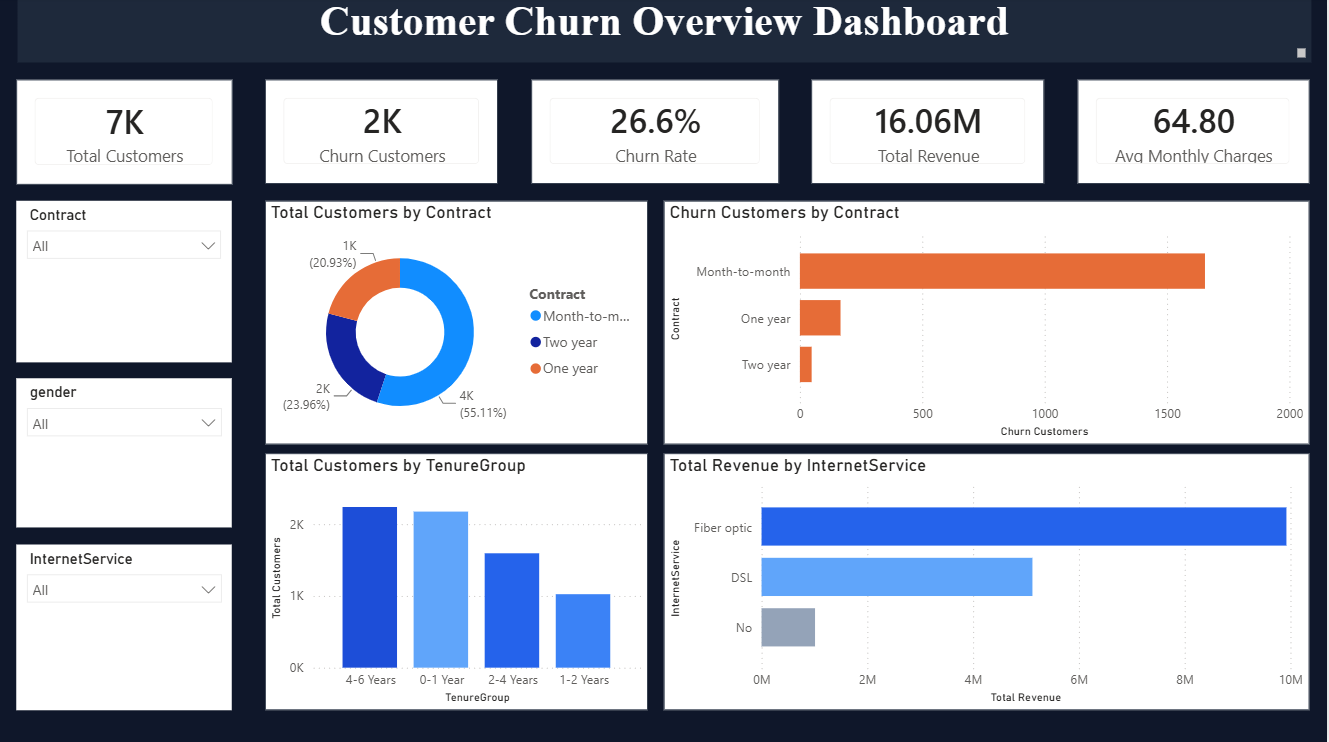

What the dashboard file says about the page in this screenshot:
{"tool":"powerbi","page":{"name":"Executive Overview","canvas":[1280,720],"ordinal":0},"visuals":[{"type":"textbox","title":"Customer Churn Overview Dashboard","box":[16.3,0,1248.5,63.4],"z":0},{"type":"donutChart","fields":{"Category":["telco_cleaned_dashboard.Contract"],"Y":["telco_cleaned_dashboard.Total Customers"]},"box":[255.4,196.2,369.3,235.2],"z":1000},{"type":"clusteredBarChart","fields":{"Category":["telco_cleaned_dashboard.Contract"],"Y":["telco_cleaned_dashboard.Churn Customers"]},"box":[640.6,196.2,623.3,235.2],"z":2000},{"type":"columnChart","fields":{"Category":["telco_cleaned_dashboard.TenureGroup"],"Y":["telco_cleaned_dashboard.Total Customers"]},"box":[255.4,440,369.3,248.2],"z":3000},{"type":"clusteredBarChart","fields":{"Category":["telco_cleaned_dashboard.InternetService"],"Y":["telco_cleaned_dashboard.Total Revenue"]},"box":[640.6,440,623.3,248.2],"z":4000},{"type":"cardVisual","fields":{"Data":["telco_cleaned_dashboard.Total Customers"]},"box":[15.7,79.6,208.7,101.3],"z":5000},{"type":"cardVisual","fields":{"Data":["telco_cleaned_dashboard.Churn Customers"]},"box":[255.4,79.4,225.1,101],"z":6000},{"type":"cardVisual","fields":{"Data":["telco_cleaned_dashboard.Churn Rate"]},"box":[512.2,79.4,239.5,101],"z":7000},{"type":"cardVisual","fields":{"Data":["telco_cleaned_dashboard.Total Revenue"]},"box":[783.4,79.4,225.1,101],"z":8000},{"type":"cardVisual","fields":{"Data":["telco_cleaned_dashboard.Avg Monthly Charges"]},"box":[1040.2,79.4,223.6,101],"z":9000},{"type":"slicer","fields":{"Values":["telco_cleaned_dashboard.Contract"]},"box":[15.9,196.2,207.8,155.8],"z":10000},{"type":"slicer","fields":{"Values":["telco_cleaned_dashboard.gender"]},"box":[16,368,208,144],"z":11000},{"type":"slicer","fields":{"Values":["telco_cleaned_dashboard.InternetService"]},"box":[16,528,208,160],"z":12000}]}

Visuals, with their boxes in screenshot pixels (x1, y1, x2, y2), scaled from the page's 1280x720 canvas onto the 1329x742 screenshot:
"Customer Churn Overview Dashboard" textbox: left=17, top=0, right=1313, bottom=65
donutChart - telco_cleaned_dashboard.Contract x telco_cleaned_dashboard.Total Customers: left=265, top=202, right=649, bottom=445
clusteredBarChart - telco_cleaned_dashboard.Contract x telco_cleaned_dashboard.Churn Customers: left=665, top=202, right=1312, bottom=445
columnChart - telco_cleaned_dashboard.TenureGroup x telco_cleaned_dashboard.Total Customers: left=265, top=453, right=649, bottom=709
clusteredBarChart - telco_cleaned_dashboard.InternetService x telco_cleaned_dashboard.Total Revenue: left=665, top=453, right=1312, bottom=709
cardVisual - telco_cleaned_dashboard.Total Customers: left=16, top=82, right=233, bottom=186
cardVisual - telco_cleaned_dashboard.Churn Customers: left=265, top=82, right=499, bottom=186
cardVisual - telco_cleaned_dashboard.Churn Rate: left=532, top=82, right=780, bottom=186
cardVisual - telco_cleaned_dashboard.Total Revenue: left=813, top=82, right=1047, bottom=186
cardVisual - telco_cleaned_dashboard.Avg Monthly Charges: left=1080, top=82, right=1312, bottom=186
slicer - telco_cleaned_dashboard.Contract: left=17, top=202, right=232, bottom=363
slicer - telco_cleaned_dashboard.gender: left=17, top=379, right=233, bottom=528
slicer - telco_cleaned_dashboard.InternetService: left=17, top=544, right=233, bottom=709
